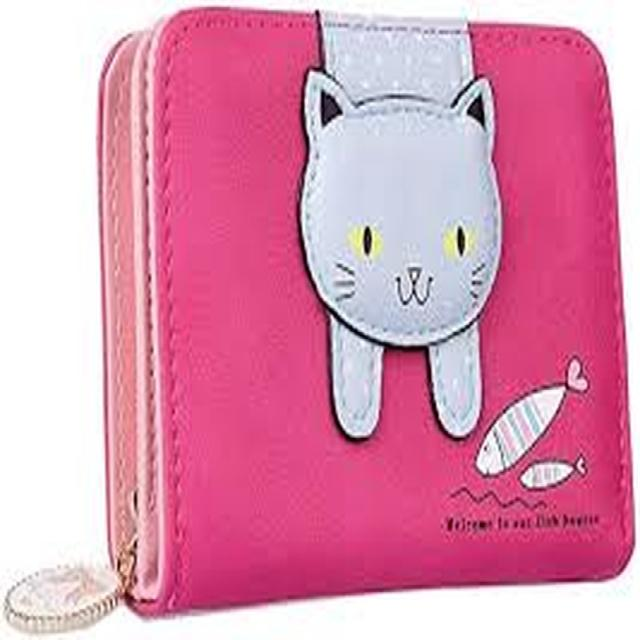wallet: (87, 26, 616, 594)
